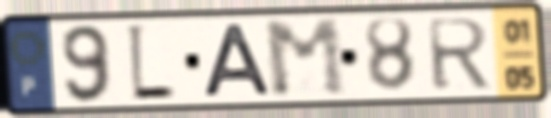8: (362, 15, 418, 98)
9: (59, 23, 114, 106)
A: (197, 21, 276, 100)
L: (124, 21, 178, 106)
M: (260, 16, 351, 101)
R: (423, 15, 494, 94)
